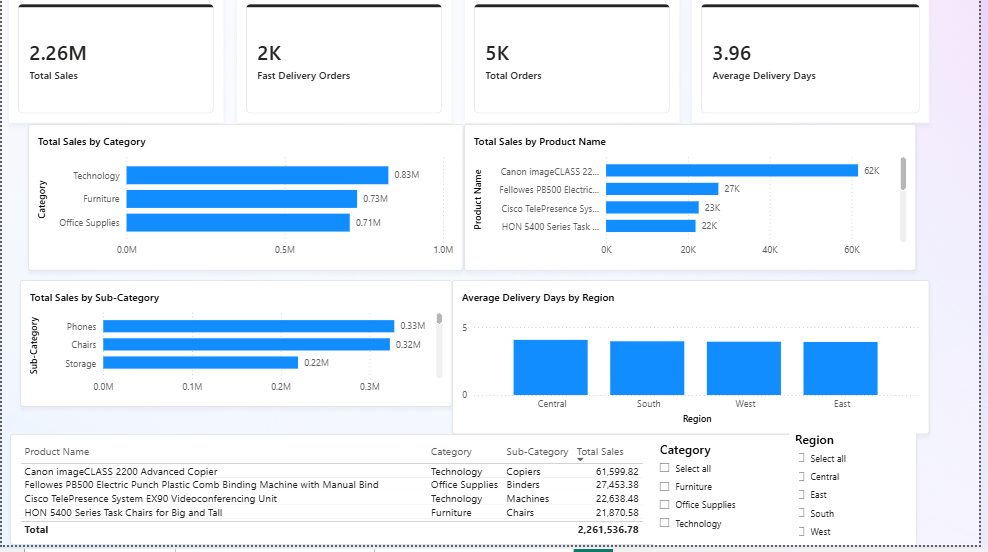

The dashboard page shown, as its layout file describes it:
{"tool":"powerbi","page":{"name":"Product & Regional Analytics","canvas":[1280,720],"ordinal":2},"visuals":[{"type":"cardVisual","fields":{"Data":["Table.Total Sales"]},"box":[9.4,0,280.8,167.8],"z":0},{"type":"cardVisual","fields":{"Data":["Table.Total Orders"]},"box":[605.5,0,280.8,167.8],"z":1},{"type":"cardVisual","fields":{"Data":["Table.Average Delivery Days"]},"box":[903.5,0,310.6,167.8],"z":2},{"type":"cardVisual","fields":{"Data":["Table.Fast Delivery Orders"]},"box":[307.5,0,280.8,167.8],"z":3},{"type":"barChart","fields":{"Category":["featured_data.Category"],"Y":["Table.Total Sales"]},"box":[34.6,168.5,570.2,191.5],"z":4},{"type":"barChart","fields":{"Category":["featured_data.Sub-Category"],"Y":["Table.Total Sales"]},"box":[23,373,565.9,165.6],"z":5},{"type":"barChart","fields":{"Category":["featured_data.Product Name"],"Y":["Table.Total Sales"]},"box":[604.8,168.5,591.8,191.5],"z":6},{"type":"columnChart","fields":{"Y":["Table.Average Delivery Days"],"Category":["featured_data.Region"]},"box":[589,373,625,201.6],"z":8},{"type":"tableEx","fields":{"Values":["featured_data.Product Name","featured_data.Category","featured_data.Sub-Category","Table.Total Sales"]},"box":[10.1,574.6,1186.6,145.4],"z":9},{"type":"slicer","fields":{"Values":["featured_data.Region"]},"box":[1030.6,571,166.3,149],"z":10},{"type":"slicer","fields":{"Values":["featured_data.Category"]},"box":[853.3,583.5,189.8,136.5],"z":11}]}

Visuals, with their boxes in screenshot pixels (x1, y1, x2, y2), scaled from the page's 1280x720 canvas onto the 988x552 screenshot:
cardVisual - Table.Total Sales: 7, 0, 224, 129
cardVisual - Table.Total Orders: 467, 0, 684, 129
cardVisual - Table.Average Delivery Days: 697, 0, 937, 129
cardVisual - Table.Fast Delivery Orders: 237, 0, 454, 129
barChart - featured_data.Category x Table.Total Sales: 27, 129, 467, 276
barChart - featured_data.Sub-Category x Table.Total Sales: 18, 286, 455, 413
barChart - featured_data.Product Name x Table.Total Sales: 467, 129, 924, 276
columnChart - Table.Average Delivery Days x featured_data.Region: 455, 286, 937, 441
tableEx - featured_data.Product Name x featured_data.Category: 8, 441, 924, 551
slicer - featured_data.Region: 795, 438, 924, 551
slicer - featured_data.Category: 659, 447, 805, 551
